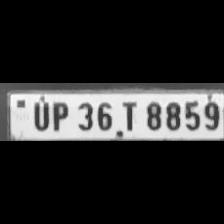3: (72, 99, 94, 131)
5: (182, 98, 202, 132)
6: (93, 98, 115, 132)
8: (141, 98, 163, 132), (162, 98, 182, 132)
9: (201, 100, 221, 132)
P: (48, 100, 70, 132)
T: (116, 98, 140, 132)
U: (28, 99, 50, 130)
